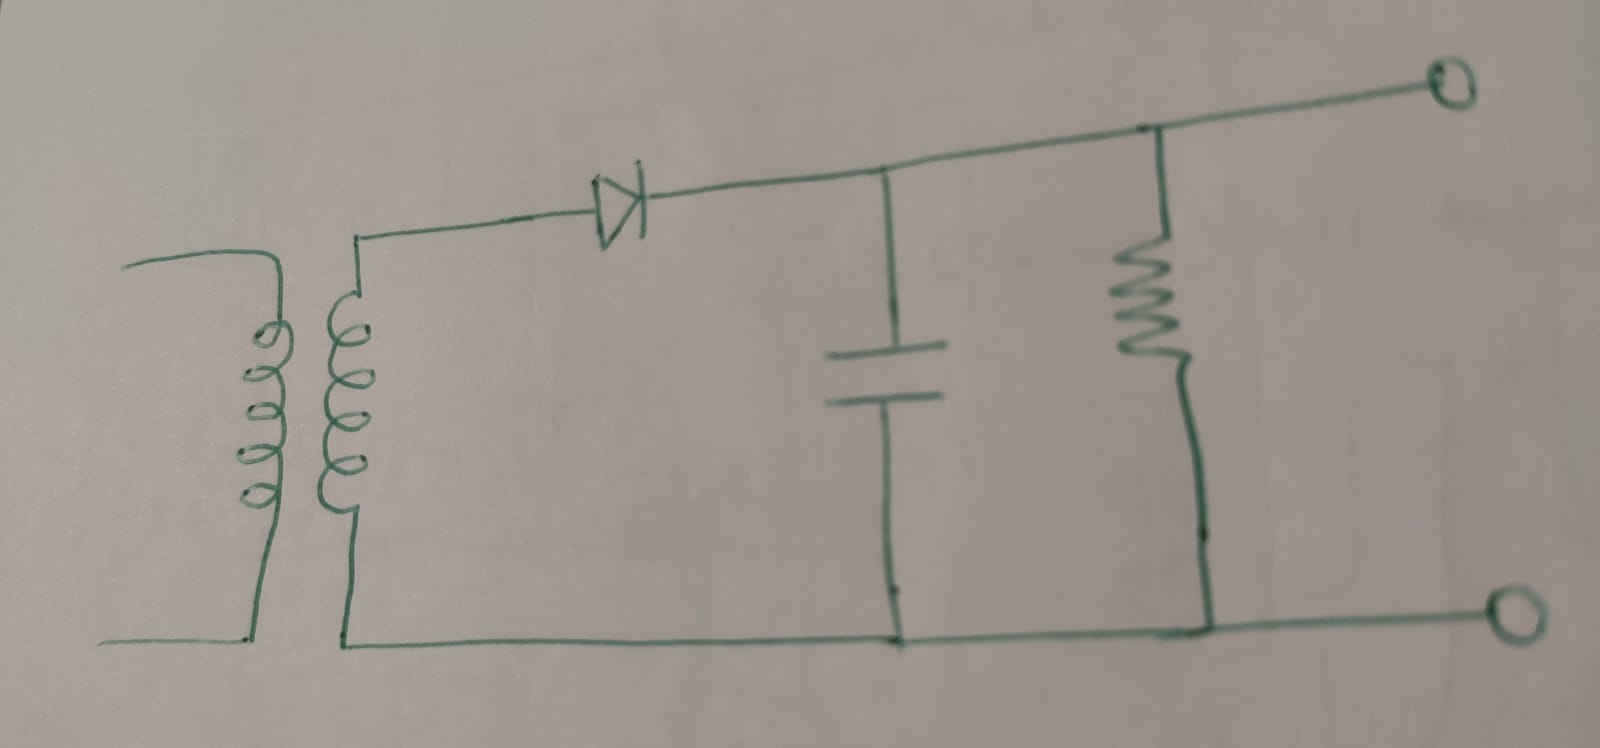capacitor.unpolarized: (824, 338, 947, 414)
diode: (587, 154, 652, 250)
junction: (257, 238, 290, 273), (885, 622, 916, 653), (1138, 119, 1177, 142), (868, 155, 897, 185), (332, 631, 359, 661), (239, 626, 264, 655), (342, 227, 372, 251), (1194, 616, 1226, 639)
resistor: (1108, 230, 1194, 366)
terminal: (1482, 582, 1548, 644), (1414, 52, 1480, 113), (114, 255, 141, 281), (91, 633, 115, 654)
transformer: (237, 285, 377, 525)
